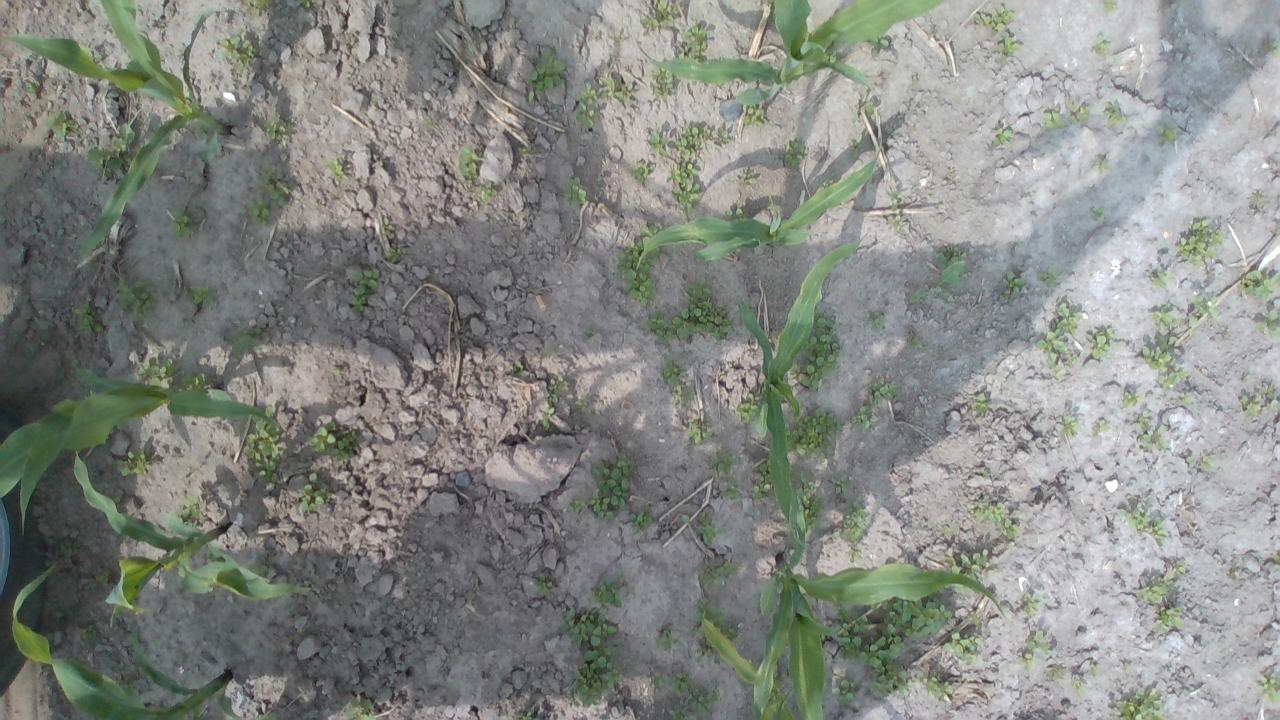Maize: (3, 0, 230, 255), (0, 368, 275, 531), (737, 236, 863, 578), (754, 549, 1004, 720), (70, 449, 308, 628), (10, 560, 236, 720), (632, 0, 946, 106), (635, 150, 881, 272), (699, 606, 794, 720)
Weeds: (836, 596, 951, 666), (558, 606, 626, 705), (646, 280, 733, 344), (790, 314, 841, 391), (668, 126, 712, 214), (617, 224, 661, 305), (1036, 302, 1080, 381), (587, 455, 637, 522), (784, 410, 844, 463), (244, 406, 284, 484), (86, 124, 136, 181), (1176, 219, 1224, 268), (851, 380, 896, 432), (525, 46, 568, 100), (967, 494, 1019, 538), (1116, 501, 1167, 545), (1151, 304, 1200, 347), (112, 278, 159, 322), (1138, 562, 1186, 604), (1108, 687, 1168, 720), (309, 422, 357, 462), (795, 470, 824, 529), (1239, 377, 1280, 417), (866, 664, 914, 698), (944, 548, 992, 582), (671, 687, 720, 720), (662, 358, 694, 408), (834, 500, 866, 547), (944, 631, 986, 666), (936, 244, 968, 288), (1237, 270, 1280, 302), (220, 34, 258, 70), (712, 453, 741, 500), (136, 356, 176, 390), (592, 570, 626, 608), (350, 270, 380, 312), (260, 164, 288, 209), (1136, 415, 1170, 452), (974, 4, 1016, 33), (640, 0, 678, 30), (680, 22, 708, 62), (698, 556, 735, 586), (301, 473, 329, 512), (1086, 326, 1116, 362), (112, 450, 152, 477), (696, 510, 726, 546), (830, 674, 864, 705), (922, 672, 954, 704), (74, 300, 104, 334), (574, 84, 597, 128), (43, 110, 79, 138), (649, 670, 689, 695), (458, 146, 484, 184), (1142, 346, 1176, 375), (244, 195, 274, 226), (911, 284, 952, 306), (1154, 606, 1186, 634), (598, 75, 630, 102), (1156, 368, 1190, 393), (751, 460, 772, 498), (1254, 310, 1280, 340), (688, 417, 714, 447), (999, 271, 1024, 302), (736, 392, 760, 424), (1192, 293, 1220, 320), (1257, 672, 1280, 704), (232, 328, 260, 354), (344, 698, 376, 720), (656, 622, 678, 654), (564, 174, 588, 203), (646, 127, 668, 158), (245, 553, 272, 578), (630, 509, 656, 534), (782, 142, 808, 167), (546, 377, 570, 404), (654, 64, 674, 96), (114, 670, 140, 694), (181, 494, 204, 521), (174, 207, 194, 238), (1026, 628, 1048, 656), (1103, 100, 1125, 128), (998, 37, 1022, 62), (180, 370, 211, 389), (742, 104, 766, 128), (1150, 266, 1176, 288), (1041, 105, 1064, 129), (1056, 415, 1080, 437), (632, 159, 656, 181), (857, 87, 874, 118), (533, 575, 555, 598), (264, 120, 288, 141), (822, 41, 844, 63), (698, 602, 722, 622), (719, 616, 737, 642), (247, 0, 274, 17), (1023, 592, 1040, 618), (1156, 124, 1178, 144), (992, 126, 1014, 146), (1070, 102, 1090, 123), (189, 284, 210, 304), (476, 182, 497, 202), (323, 158, 345, 177), (80, 43, 102, 61), (1092, 36, 1110, 57), (512, 706, 538, 720), (1016, 651, 1034, 671), (1038, 266, 1057, 284), (385, 244, 402, 264), (973, 393, 989, 414), (833, 475, 849, 496), (1071, 676, 1086, 698), (871, 33, 890, 50), (713, 127, 732, 144), (78, 368, 98, 384), (722, 207, 748, 219), (542, 407, 556, 429), (1046, 664, 1064, 681), (1122, 389, 1139, 407), (26, 78, 43, 95), (868, 312, 886, 328), (1092, 418, 1108, 436), (1202, 454, 1218, 472), (887, 213, 903, 230), (1263, 39, 1280, 55), (910, 334, 926, 350), (80, 624, 96, 640), (568, 498, 586, 512), (736, 173, 753, 187), (816, 178, 833, 192), (1177, 392, 1194, 406), (582, 328, 596, 344), (678, 512, 692, 528), (1271, 550, 1280, 574), (381, 216, 393, 234), (608, 31, 624, 44), (513, 359, 524, 377), (770, 683, 781, 701), (1250, 192, 1264, 206), (890, 192, 901, 209), (847, 141, 864, 152), (1092, 159, 1105, 172), (850, 549, 863, 562), (1092, 206, 1104, 220), (976, 466, 990, 478), (1090, 663, 1102, 676), (1103, 0, 1118, 10), (946, 584, 964, 592), (575, 398, 589, 408), (423, 118, 437, 128), (300, 0, 315, 8), (818, 631, 828, 642), (689, 79, 702, 86), (257, 715, 272, 720), (942, 526, 952, 533), (335, 368, 341, 376)
